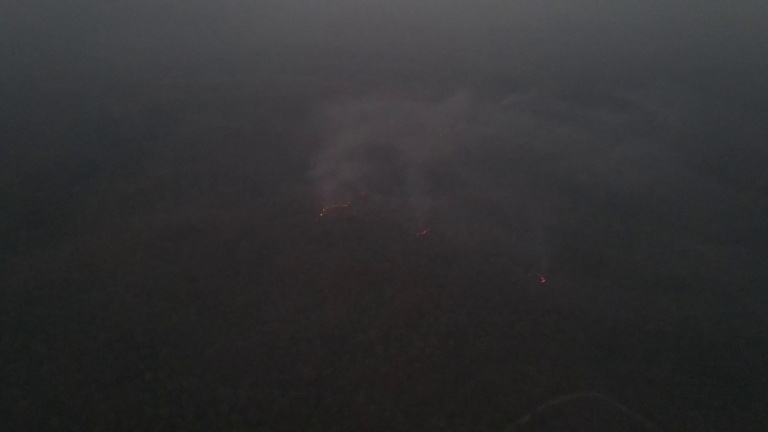fire: (316, 202, 351, 217), (417, 225, 434, 237), (357, 187, 370, 201), (539, 272, 550, 286)
smoke: (311, 96, 502, 225)
